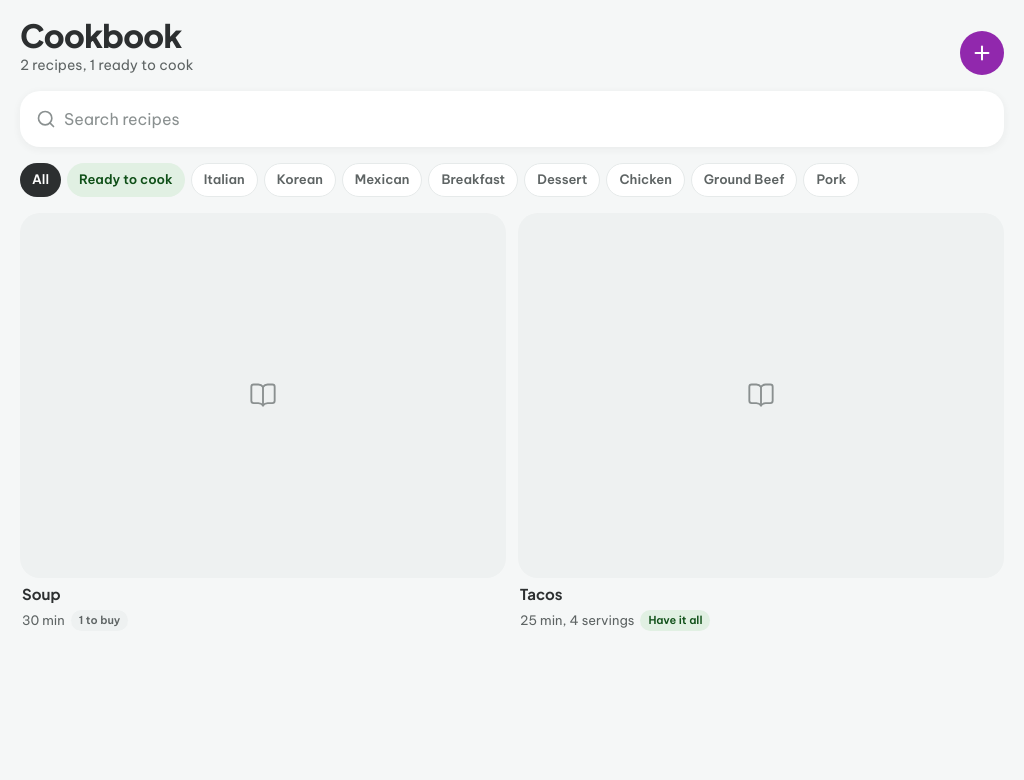
Test: CookbookPage › a tag pill filters the grid to recipes carrying that tag
Expected: the text "Tacos" is shown, [518, 584, 564, 604]
Click the button "Mexican" at (382,180), box [342, 163, 422, 197]
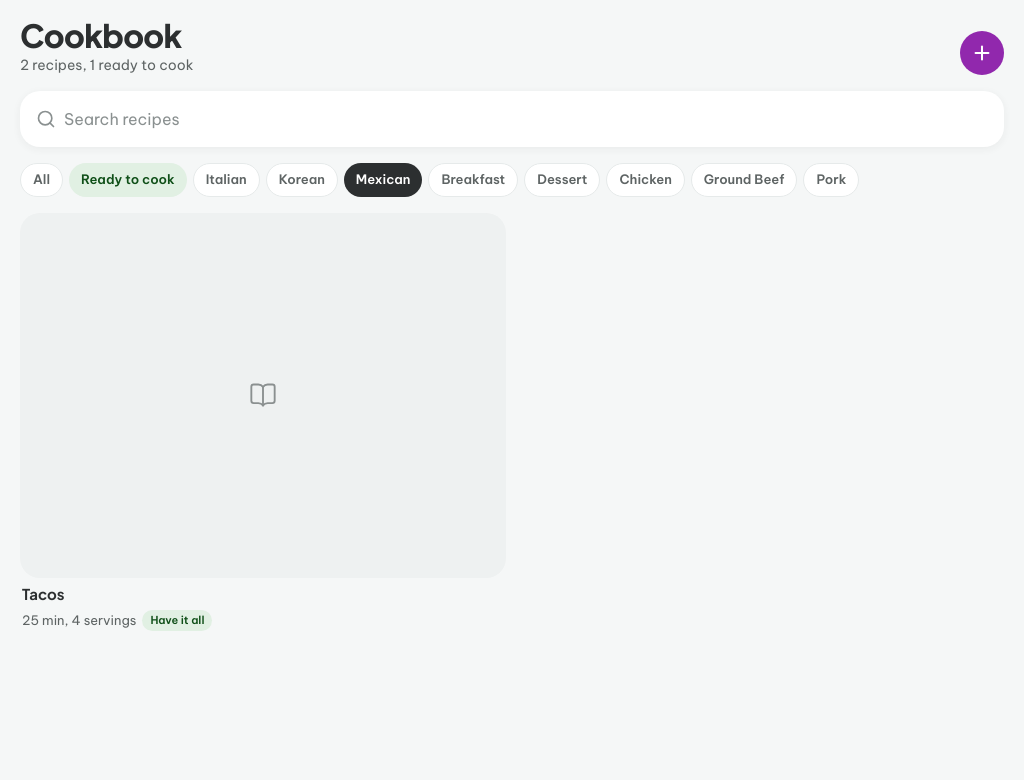
Expected: the text "Tacos" is shown, [20, 584, 66, 604]
Expected: the button "Soup" is gone
